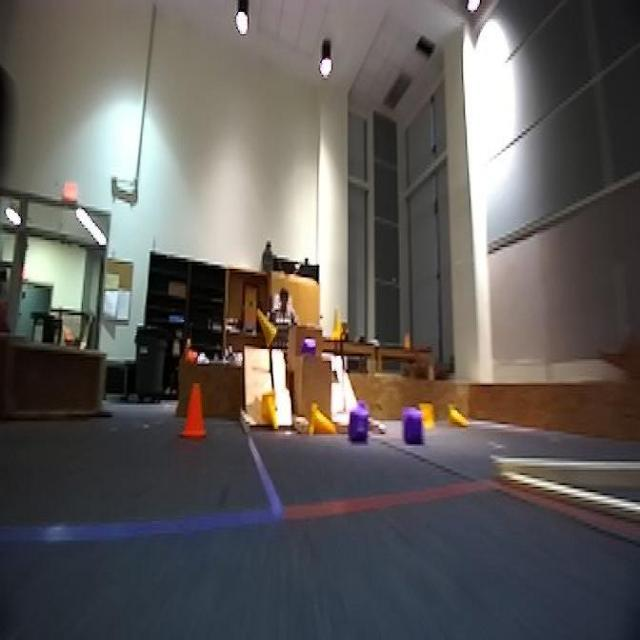frc_cone: (308, 402, 337, 441), (257, 390, 282, 430), (255, 308, 279, 347), (417, 400, 435, 441), (328, 312, 346, 351), (446, 403, 469, 432)
frc_cube: (400, 405, 428, 451), (346, 407, 368, 446), (300, 337, 321, 361)
